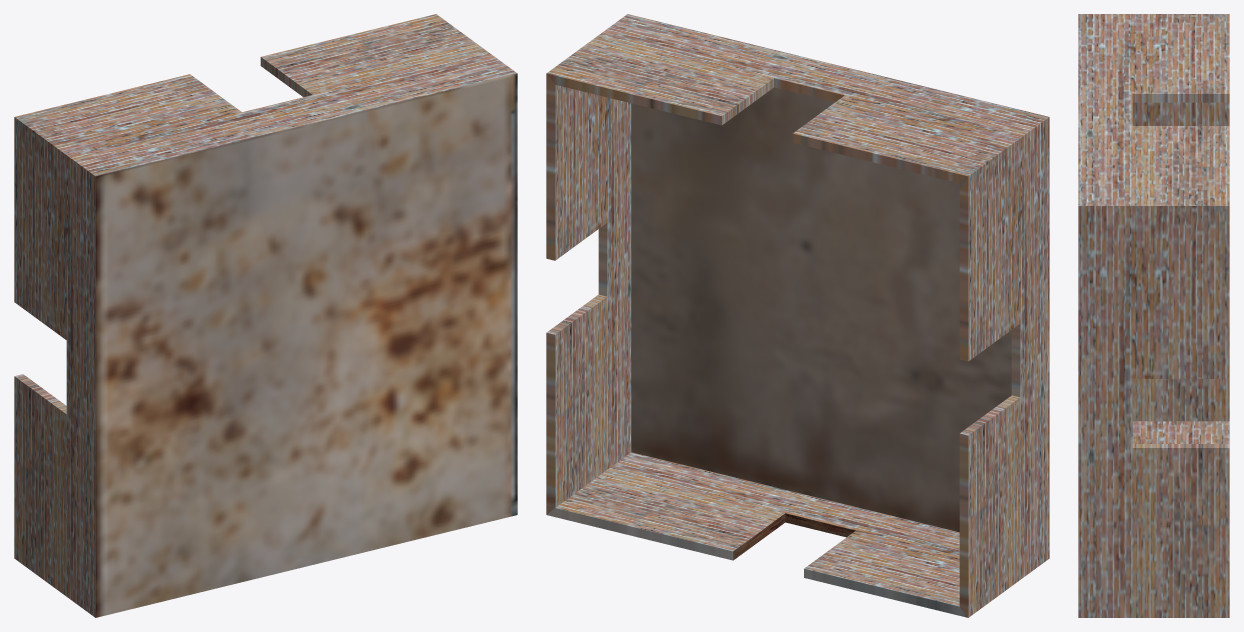
File: 6x6NSEW_redbrick_wtf.obj
3 views of the same model, side by side, from view 1: azimuth 30°, elevation 25°; view 2: azimuth 150°, elevation 25°; view 3: azimuth 270°, elevation 25° (orthographic). The views are drawn at different scales.
Visible parts, largest first — view 1: group2; view 2: group2; view 3: group2.
Boxes of the visible parts, x1,y1,x2,y2 form: group2: (14,14,517,617); group2: (546,14,1049,617); group2: (1078,14,1229,617).
Size of the model in its own units: 660 by 660 by 220.
